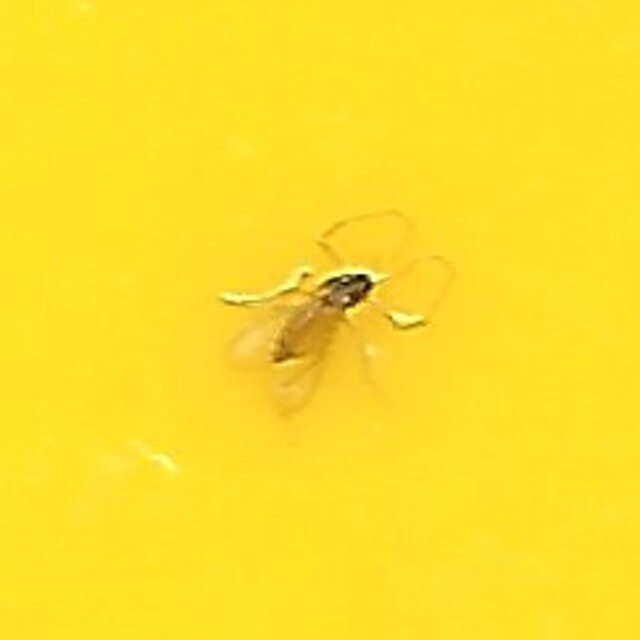Nematocera: (263, 261, 377, 379)
